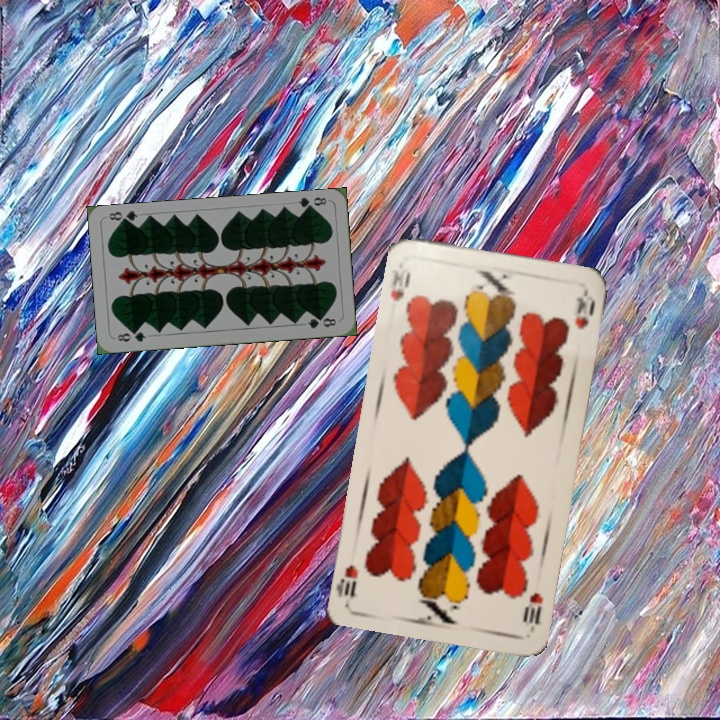G8: (294, 193, 329, 213), (113, 327, 149, 345)
H10: (519, 589, 546, 634), (386, 264, 413, 304)
